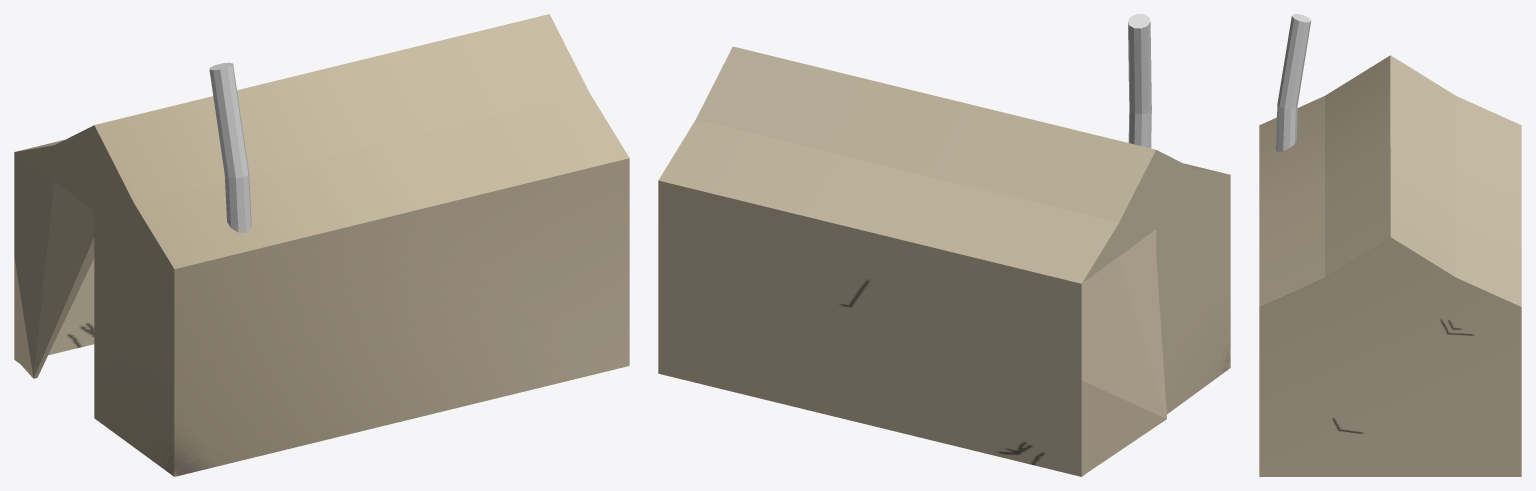
The model's file is tent_rect.fbx.
3 renders of one model, left to right at view 1: azimuth 30°, elevation 25°; view 2: azimuth 150°, elevation 25°; view 3: azimuth 270°, elevation 25°, orthographic. The views are drawn at different scales.
Visible parts, largest first — view 1: Cube.001, Cylinder; view 2: Cube.001, Cylinder; view 3: Cube.001, Cylinder.
Boxes of the visible parts, bbox=[...] form: Cube.001: bbox=[14, 14, 629, 476]; Cylinder: bbox=[209, 62, 251, 232]; Cube.001: bbox=[658, 46, 1230, 476]; Cylinder: bbox=[1128, 14, 1151, 148]; Cube.001: bbox=[1259, 55, 1521, 476]; Cylinder: bbox=[1276, 14, 1311, 151].
Size of the model in its own units: 200 by 354 by 260.
